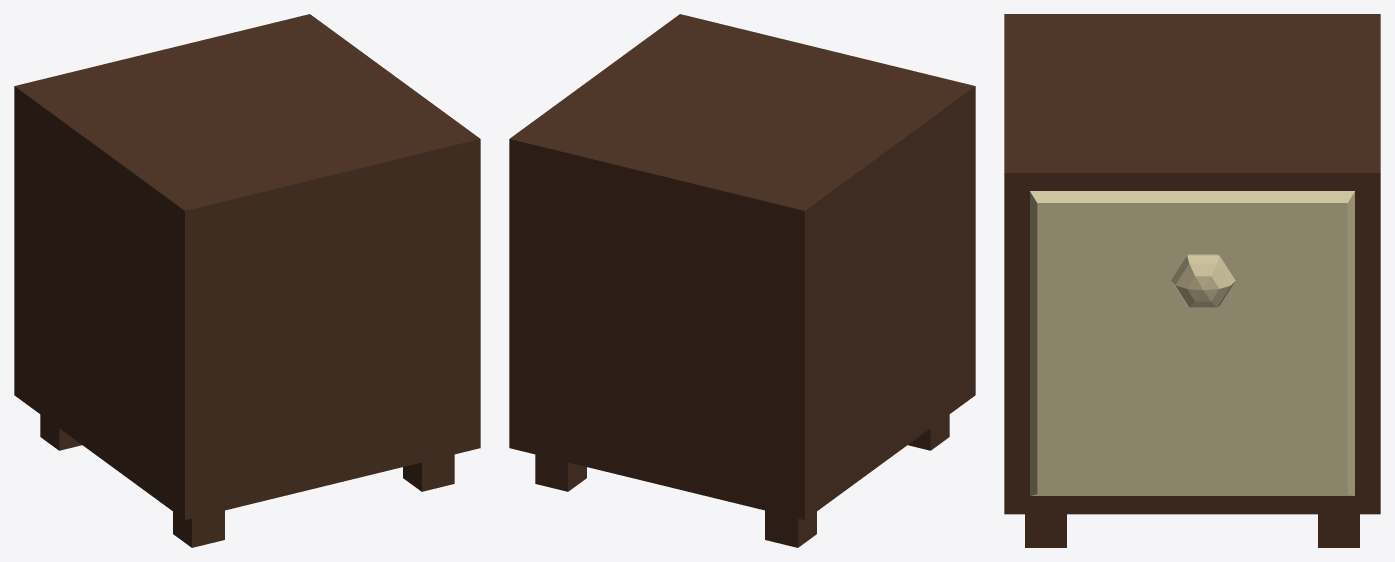
File: Table_Chevet.fbx
3 views of the same model, side by side, from view 1: azimuth 30°, elevation 25°; view 2: azimuth 150°, elevation 25°; view 3: azimuth 270°, elevation 25° (orthographic). The views are drawn at different scales.
Parts seen in each view (by area): view 1: Table_Chevet; view 2: Table_Chevet; view 3: Table_Chevet.
Part boxes in pixels (x1,y1,x2,y2): Table_Chevet: (14, 14, 480, 547); Table_Chevet: (509, 14, 975, 547); Table_Chevet: (1004, 14, 1380, 547).
Size of the model in its own units: 45.64 by 45 by 40.
